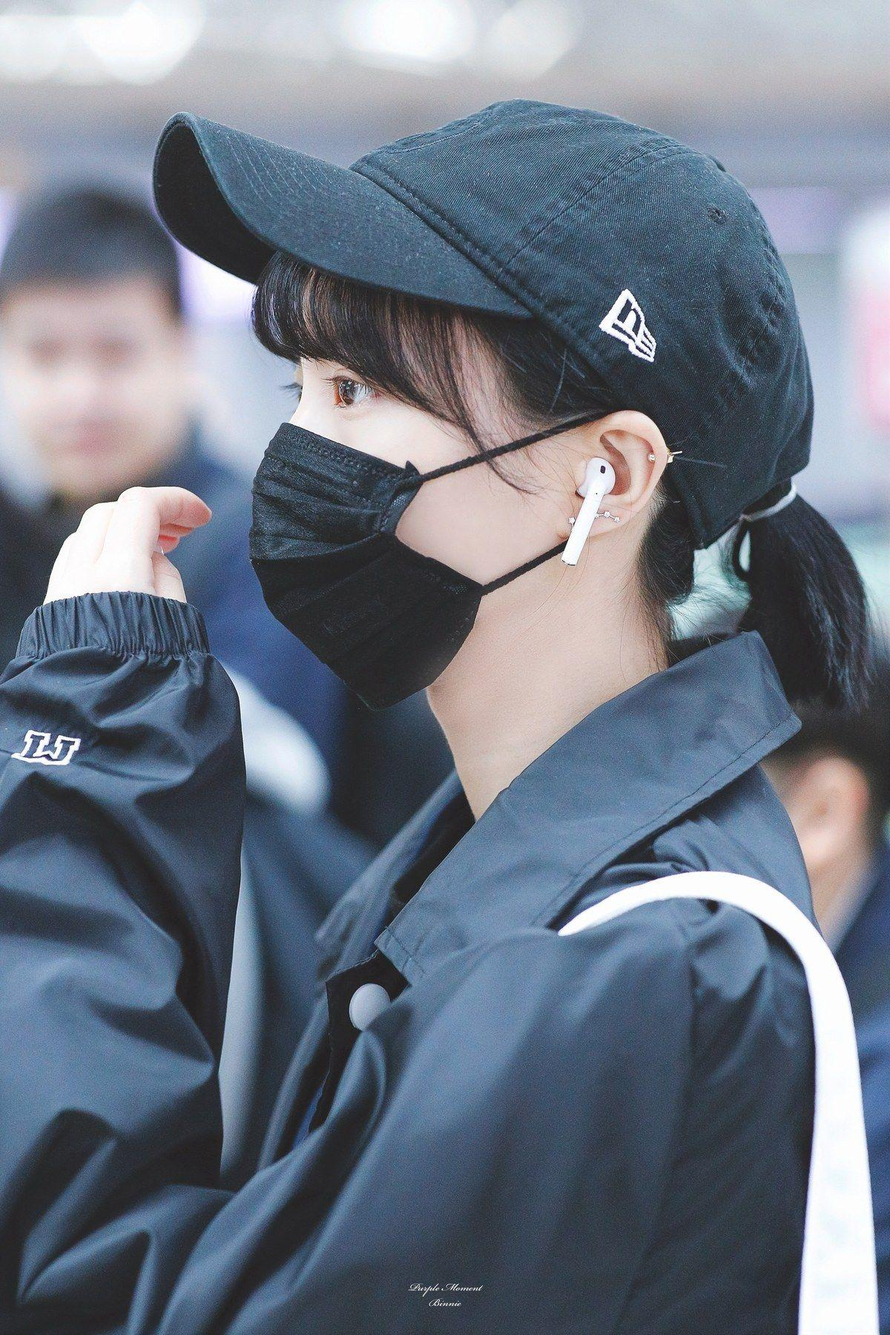earphone: (559, 448, 624, 574)
